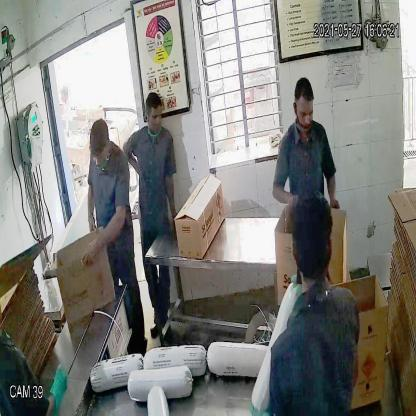no_goggles: (289, 101, 319, 124)
